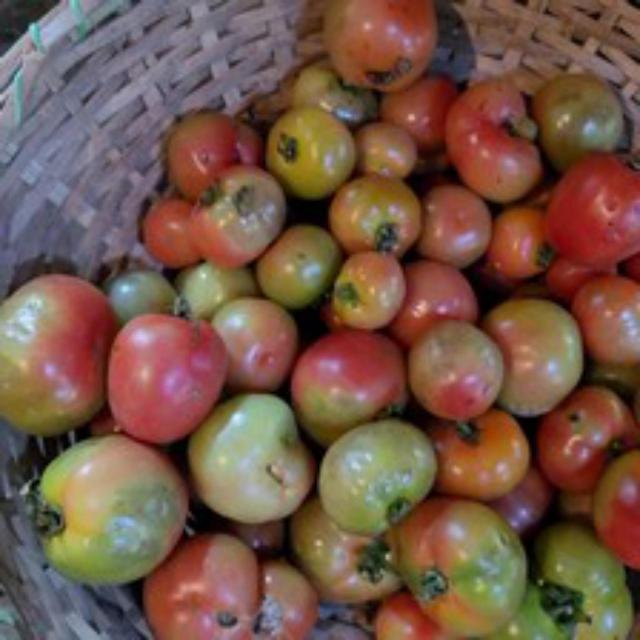tomato: (108, 308, 235, 450), (137, 517, 274, 637), (543, 152, 637, 266)
